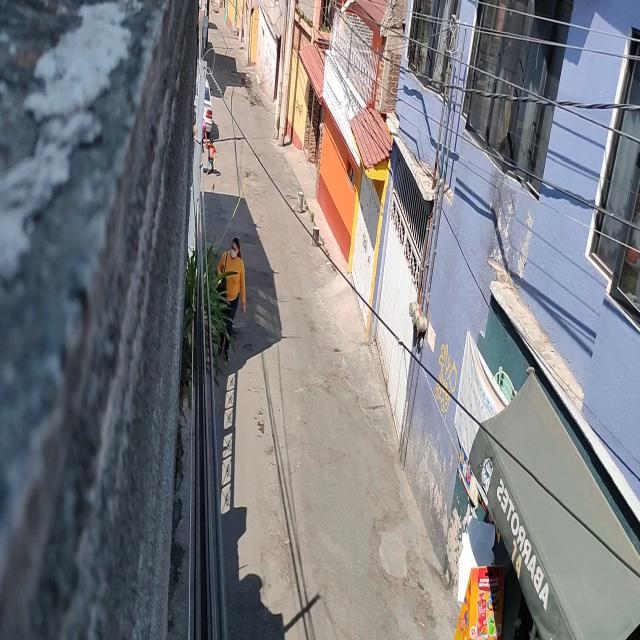adult: (217, 236, 246, 362), (205, 136, 217, 177)
